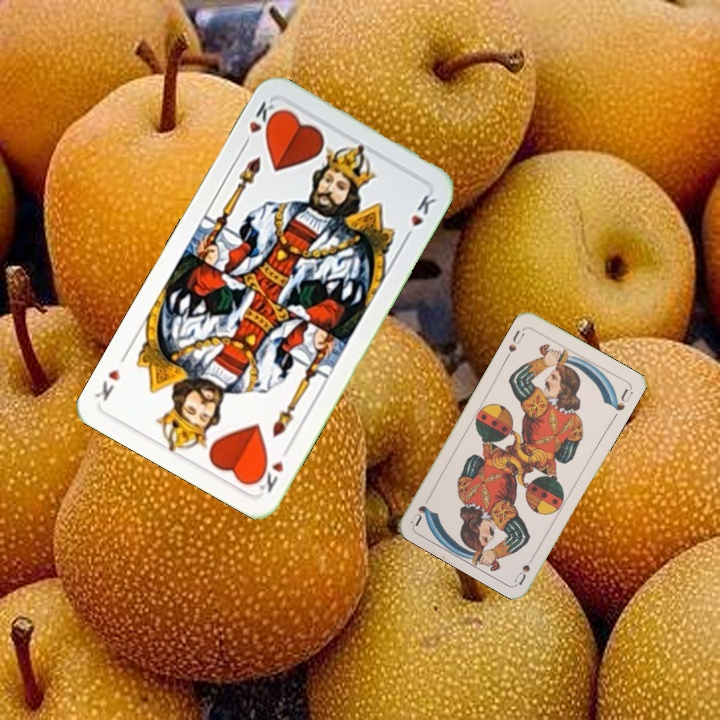HK: (251, 441, 294, 496), (238, 97, 281, 151)
SU: (511, 548, 539, 587), (502, 326, 527, 361)
